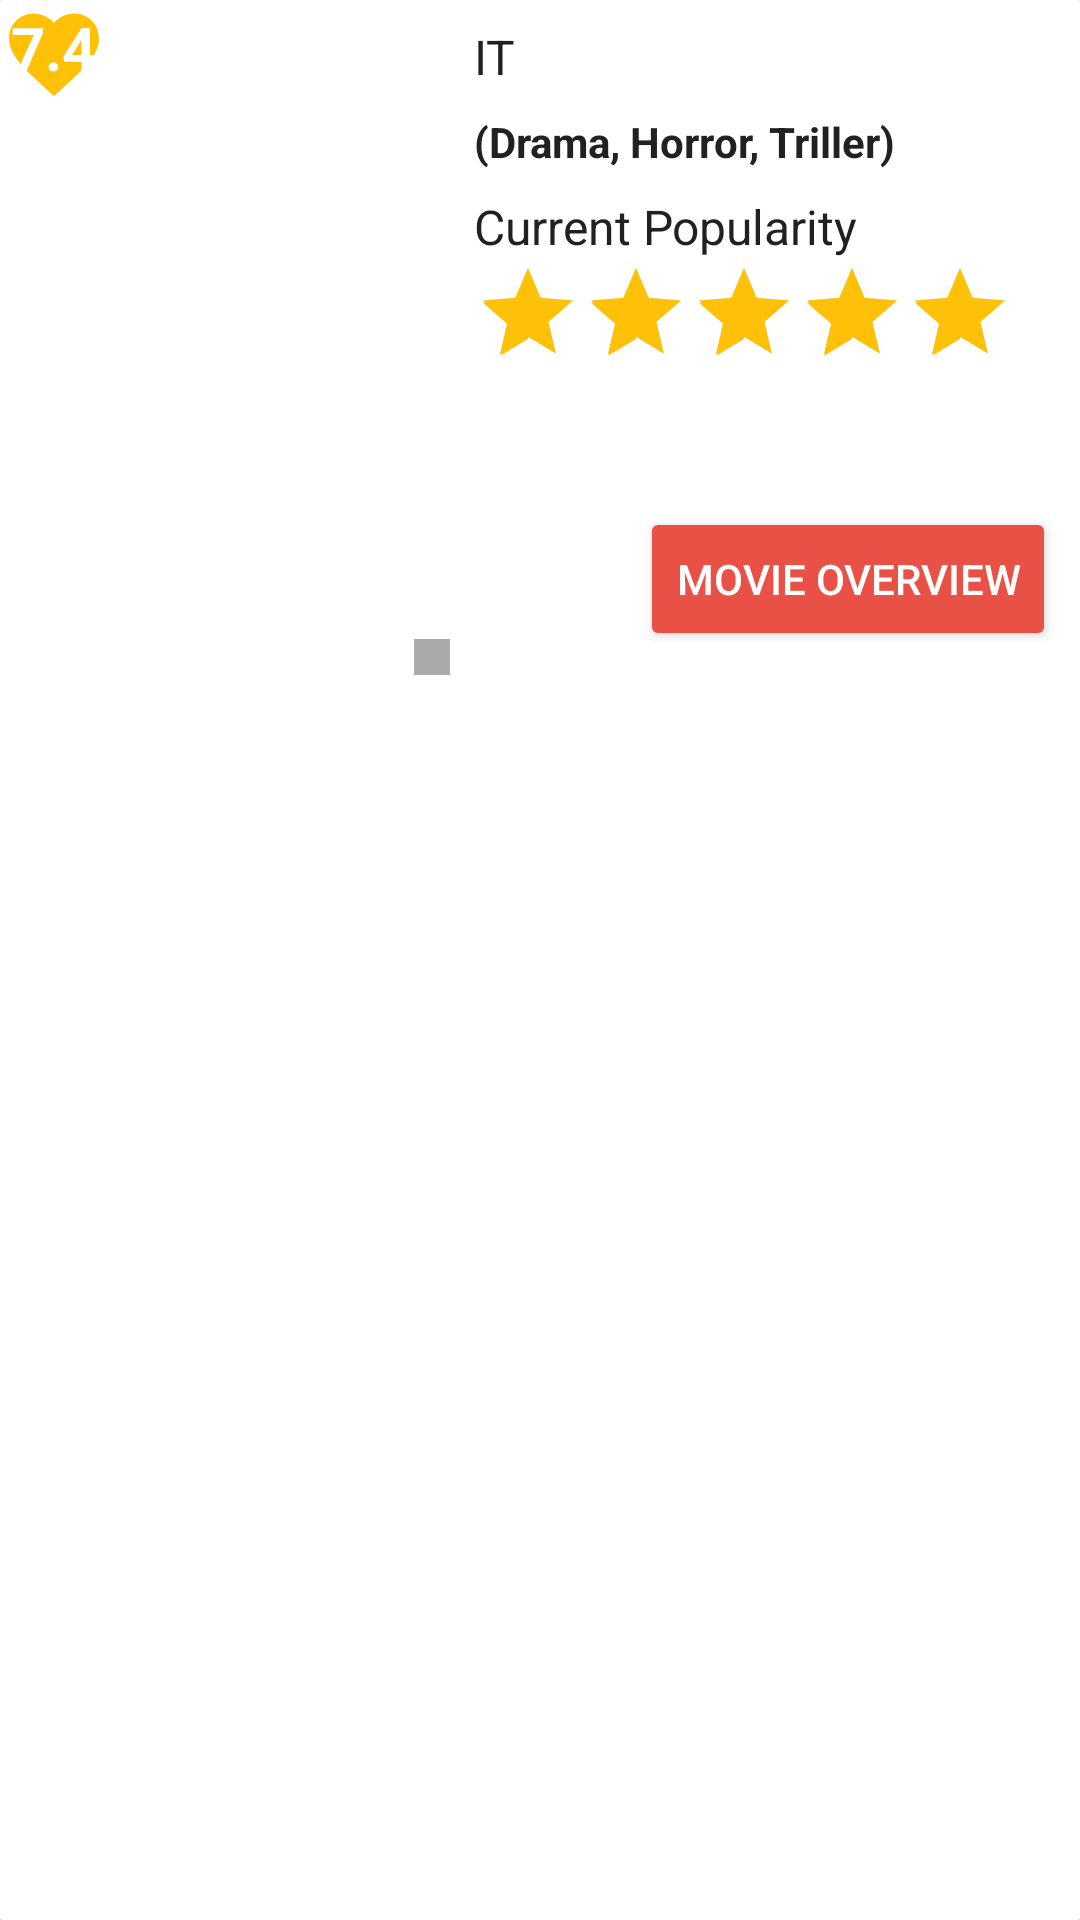

Screen size 1080px x 1920px. Icon name, then its box in pixels as detection(x1, y1, x2, y2):
favorite: detection(9, 13, 99, 96)
